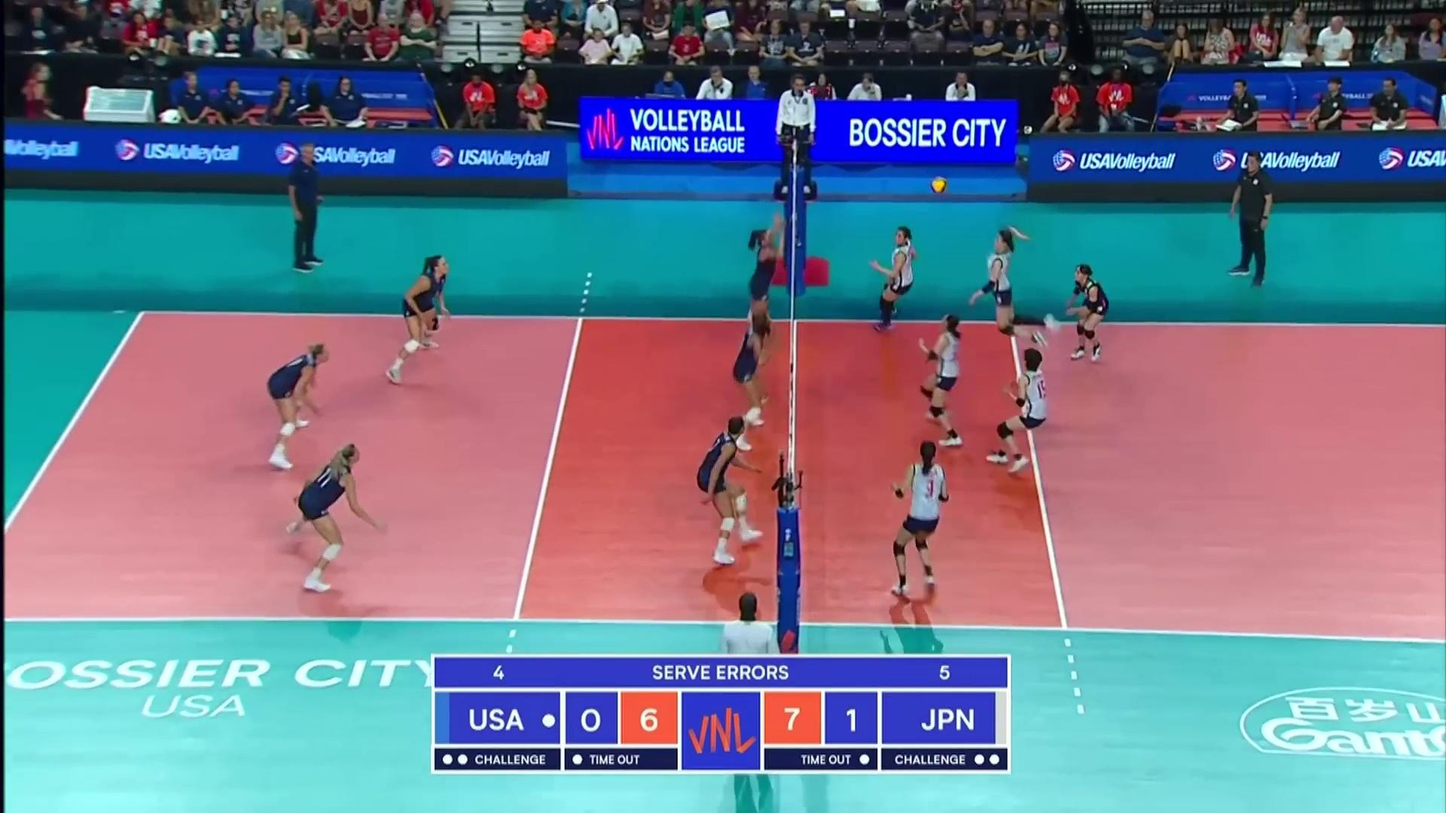player: (286, 444, 388, 594), (972, 225, 1062, 349), (694, 416, 765, 566), (891, 443, 952, 596), (386, 256, 451, 387), (269, 343, 331, 470), (987, 351, 1048, 472), (918, 314, 966, 446), (748, 215, 789, 365), (732, 311, 774, 448), (869, 228, 917, 336), (1066, 266, 1109, 362)
refree: (719, 592, 785, 763), (775, 75, 816, 193)
